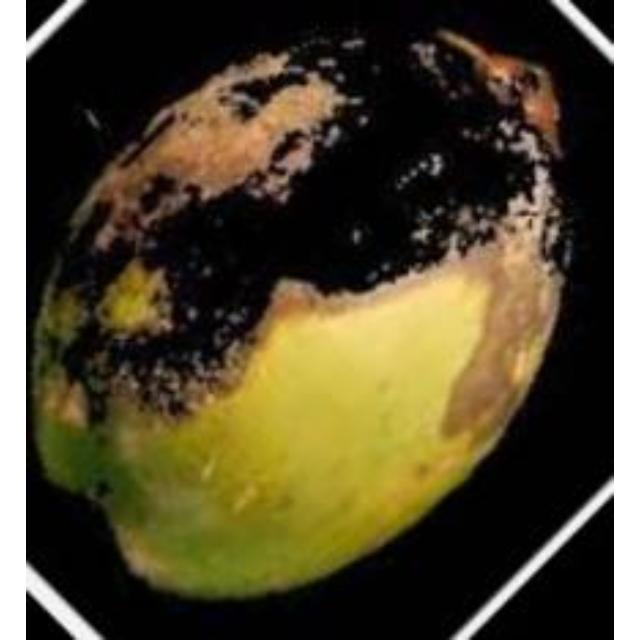damaged: (31, 25, 573, 599)
